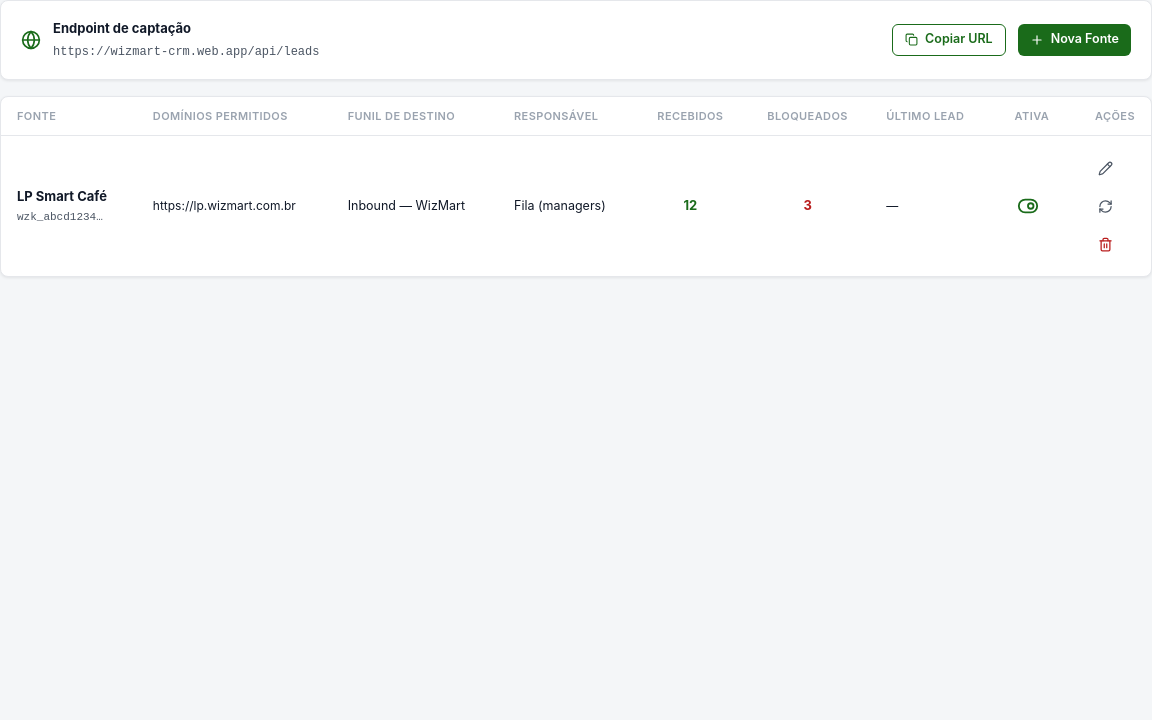
Test: LeadSourcesPane › rotacionar chave: atualiza o hash e revela a nova chave
This screenshot has width=1152, height=720.
Click the button named "Rotacionar chave de LP Smart Café": click(1106, 206) [1087,187,1125,225]
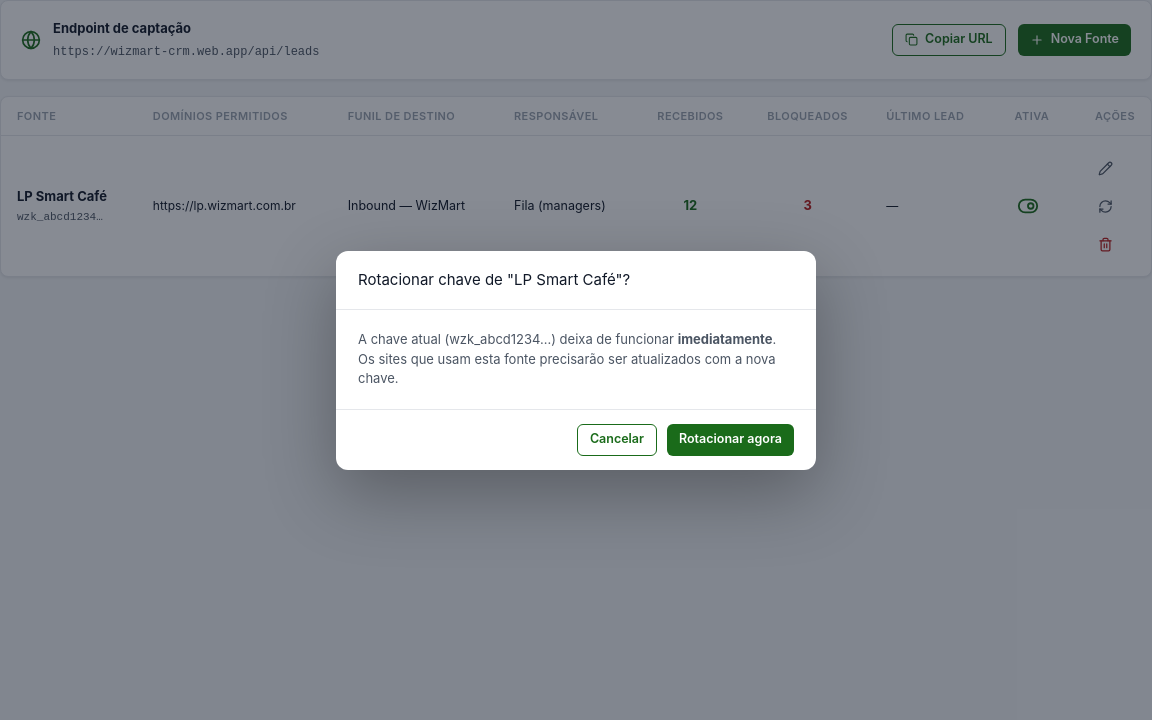
Click the button "Rotacionar agora": click(730, 440) [667,424,794,456]
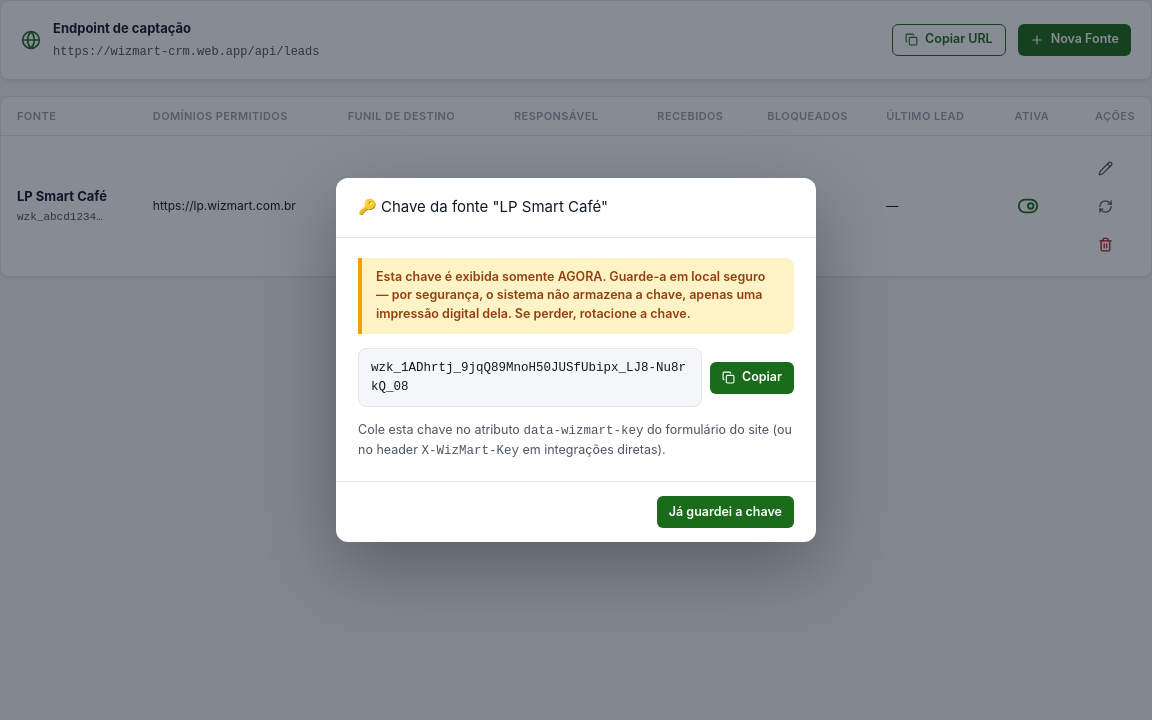
Result: the text with test id "revealed-key" shows "wzk_" at [371,361,686,394]
